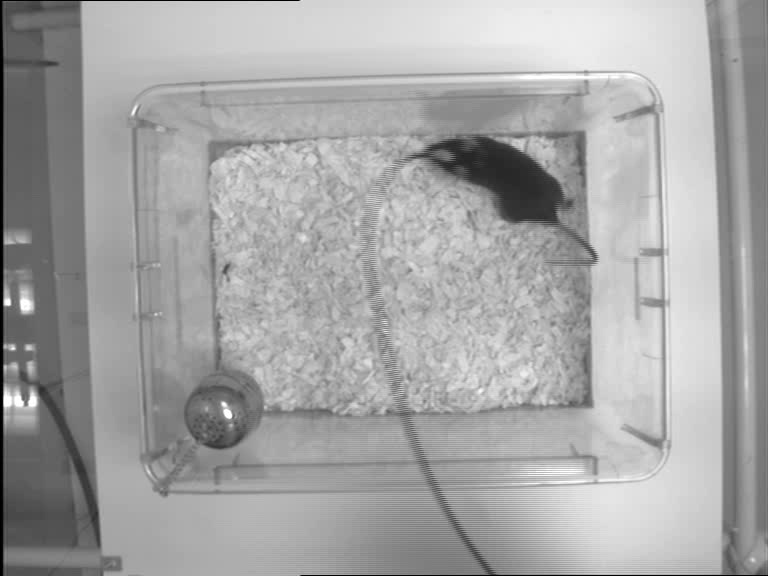mice: (423, 132, 598, 267)
